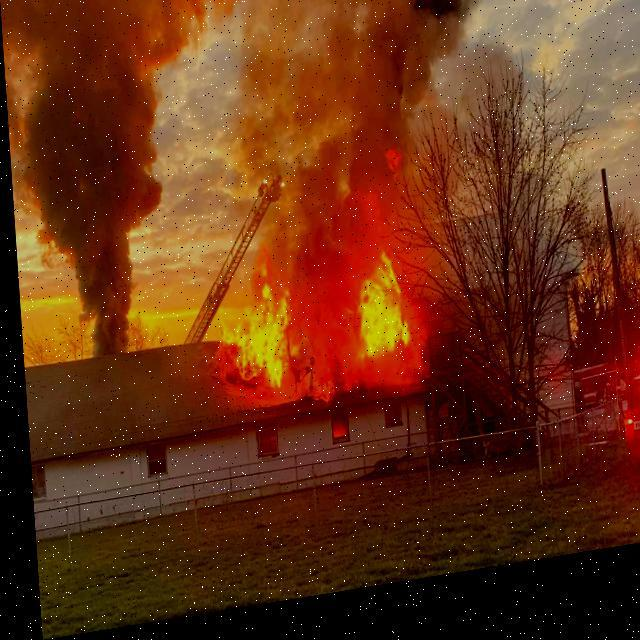Fire: (200, 192, 424, 424), (379, 158, 402, 196)
